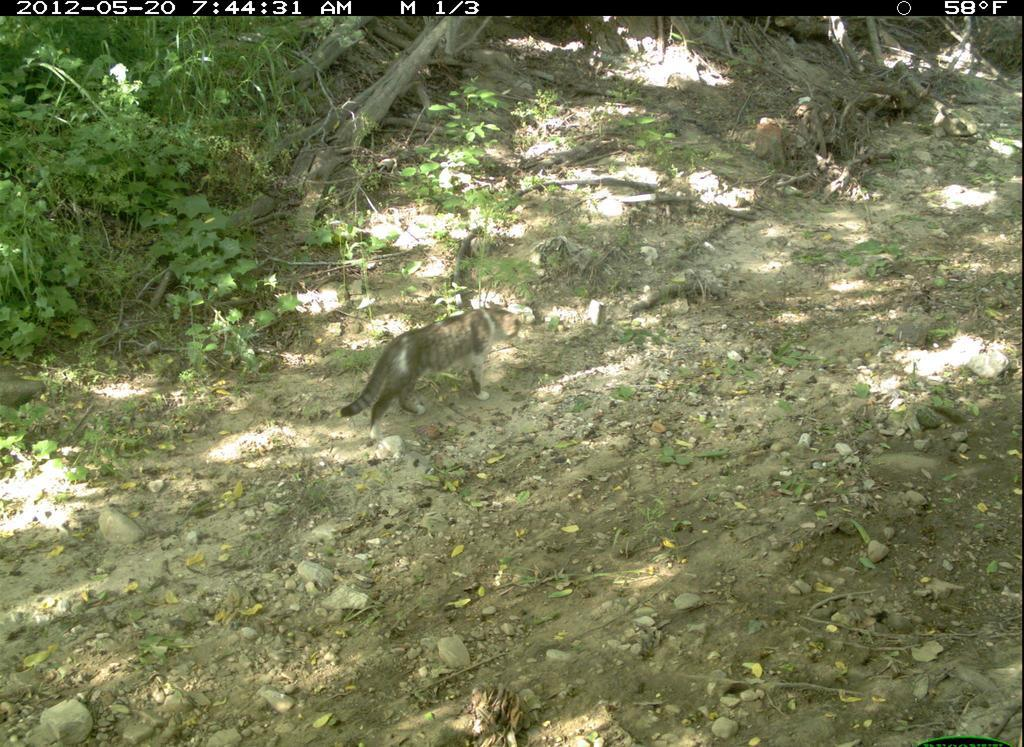cat: (336, 301, 524, 446)
